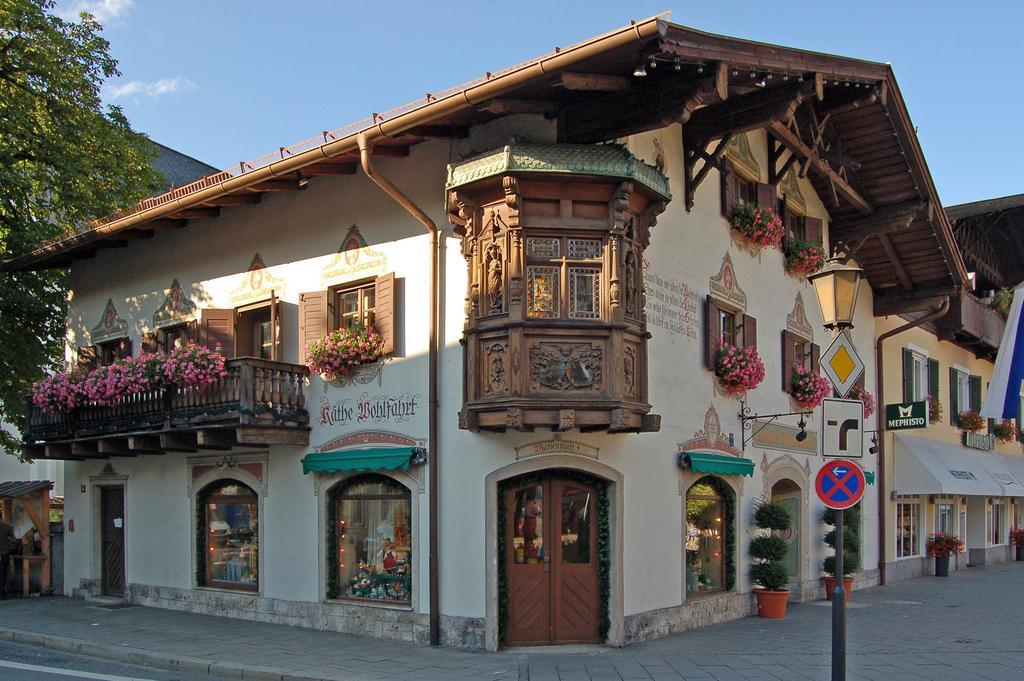door: (554, 480, 606, 632), (508, 487, 548, 622), (94, 489, 120, 593)
